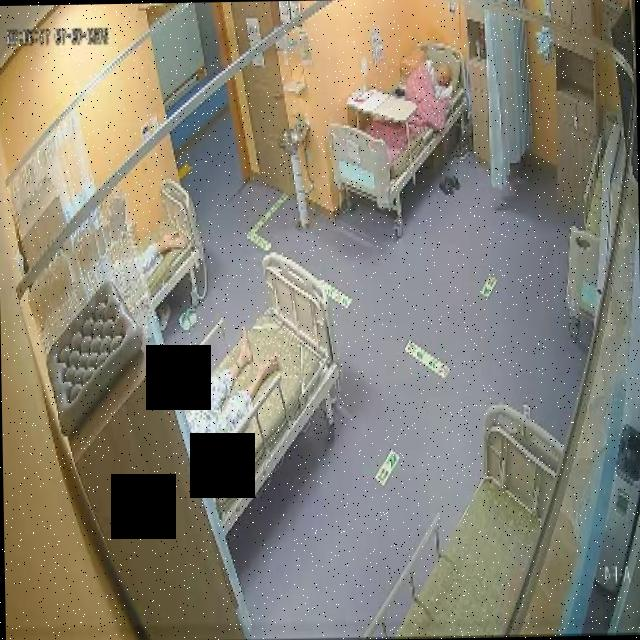bed: (358, 398, 566, 640), (180, 252, 340, 528), (328, 43, 468, 208), (136, 180, 203, 308)
lie: (182, 323, 279, 468), (373, 51, 457, 138)
patient: (183, 324, 278, 468), (420, 52, 456, 104)
